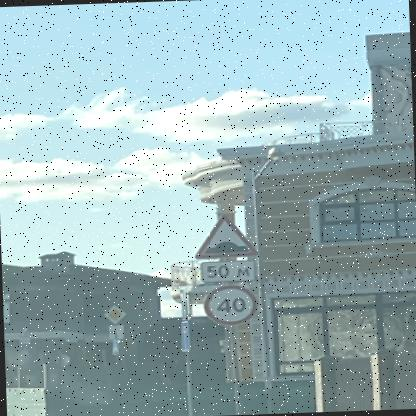speedlimit: (201, 282, 256, 324)
